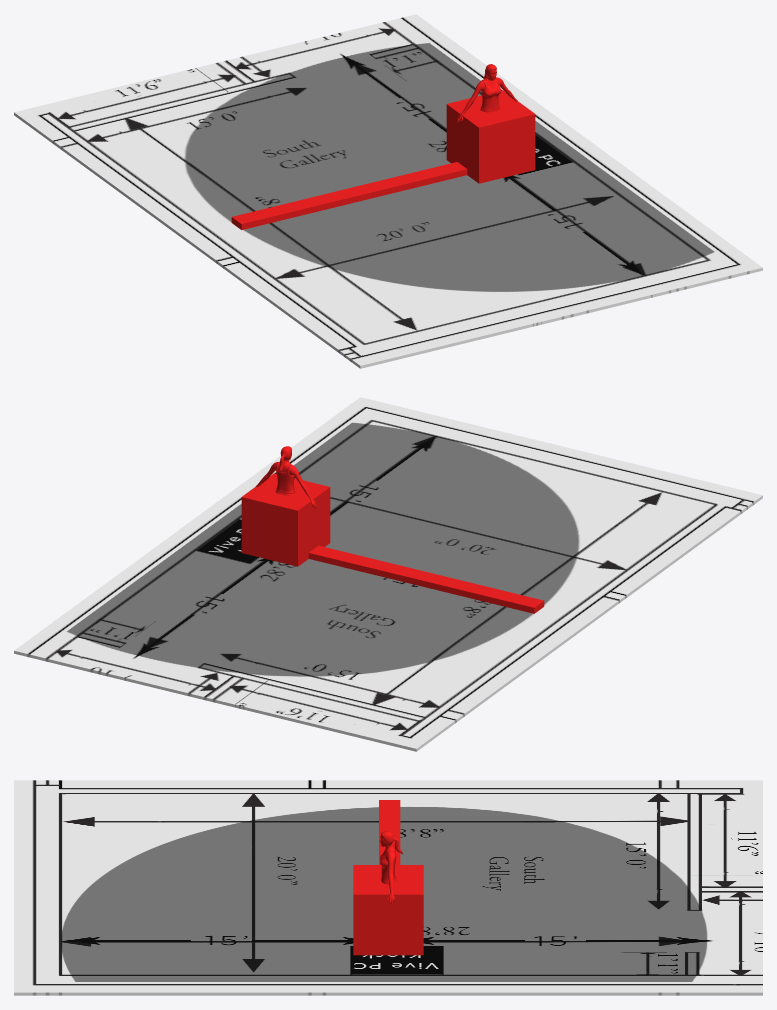
File: ViveMaxTemplate-InstituteInstall.fbx
3 renders of one model, top to bottom at view 1: azimuth 30°, elevation 25°; view 2: azimuth 150°, elevation 25°; view 3: azimuth 270°, elevation 25°, orthographic. The views are drawn at different scales.
Visible parts, largest first — view 1: InstallationDimensions, OneMeterCube, 15ftX1ftX1ft, HumanGuide5ft8inches; view 2: InstallationDimensions, OneMeterCube, 15ftX1ftX1ft, HumanGuide5ft8inches; view 3: InstallationDimensions, OneMeterCube, 15ftX1ftX1ft, HumanGuide5ft8inches.
Part boxes in pixels (x1,y1,x2,y2): InstallationDimensions: [14, 14, 762, 368]; OneMeterCube: [446, 90, 535, 183]; 15ftX1ftX1ft: [231, 162, 467, 229]; HumanGuide5ft8inches: [457, 64, 517, 122]; InstallationDimensions: [14, 397, 762, 751]; OneMeterCube: [241, 473, 330, 566]; 15ftX1ftX1ft: [308, 545, 544, 613]; HumanGuide5ft8inches: [255, 446, 316, 508]; InstallationDimensions: [14, 780, 762, 995]; OneMeterCube: [353, 865, 423, 955]; 15ftX1ftX1ft: [379, 800, 400, 864]; HumanGuide5ft8inches: [379, 831, 402, 904].
Bounding box in the file's own units: 715 × 191 × 1066.
Materials: 2 (1 with a texture image).
